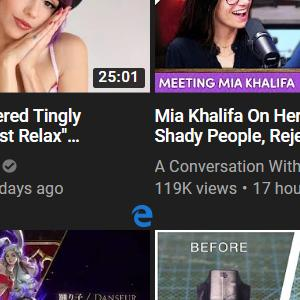edge: (131, 204, 153, 228)
